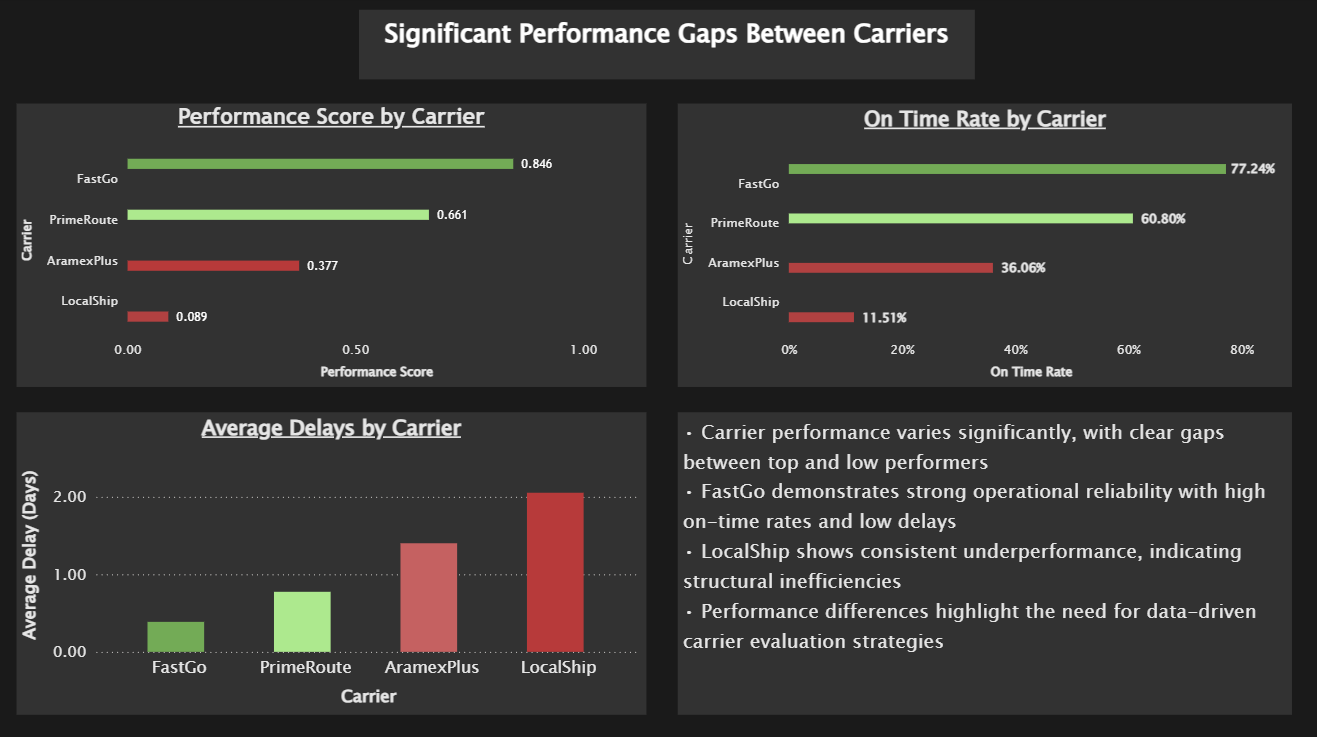

The page's visual inventory and layout, read from the dashboard file:
{"tool":"powerbi","page":{"name":"Carrier Performance","canvas":[1280,720],"ordinal":2},"visuals":[{"type":"clusteredBarChart","title":"On Time Rate by Carrier","fields":{"Category":["carrier_performance_scores.carrier"],"Y":["Sum(carrier_performance_scores.On_Time_Rate)"],"Series":["carrier_performance_scores.carrier"]},"box":[660.3,103.9,593.1,273.9],"z":0},{"type":"clusteredColumnChart","title":"ِAverage Delays by Carrier","fields":{"Y":["Sum(carrier_performance_scores.Avg_Delay)"],"Category":["carrier_performance_scores.carrier"]},"box":[22,402.3,607.7,292.3],"z":1000},{"type":"textbox","box":[660.3,402.3,593.1,292.3],"z":2000},{"type":"clusteredBarChart","title":" Performance Score by Carrier","fields":{"Category":["carrier_performance_scores.carrier"],"Y":["Sum(carrier_performance_scores.performance_score)"],"Series":["carrier_performance_scores.carrier"]},"box":[22,103.9,607.7,273.9],"z":3000},{"type":"textbox","box":[352.2,13.5,594.3,67.3],"z":4000}]}

Visuals, with their boxes in screenshot pixels (x1, y1, x2, y2), scaled from the page's 1280x720 canvas onto the 1317x737 screenshot:
"On Time Rate by Carrier" clusteredBarChart: {"x1": 679, "y1": 106, "x2": 1290, "y2": 387}
"ِAverage Delays by Carrier" clusteredColumnChart: {"x1": 23, "y1": 412, "x2": 648, "y2": 711}
textbox: {"x1": 679, "y1": 412, "x2": 1290, "y2": 711}
" Performance Score by Carrier" clusteredBarChart: {"x1": 23, "y1": 106, "x2": 648, "y2": 387}
textbox: {"x1": 362, "y1": 14, "x2": 974, "y2": 83}
